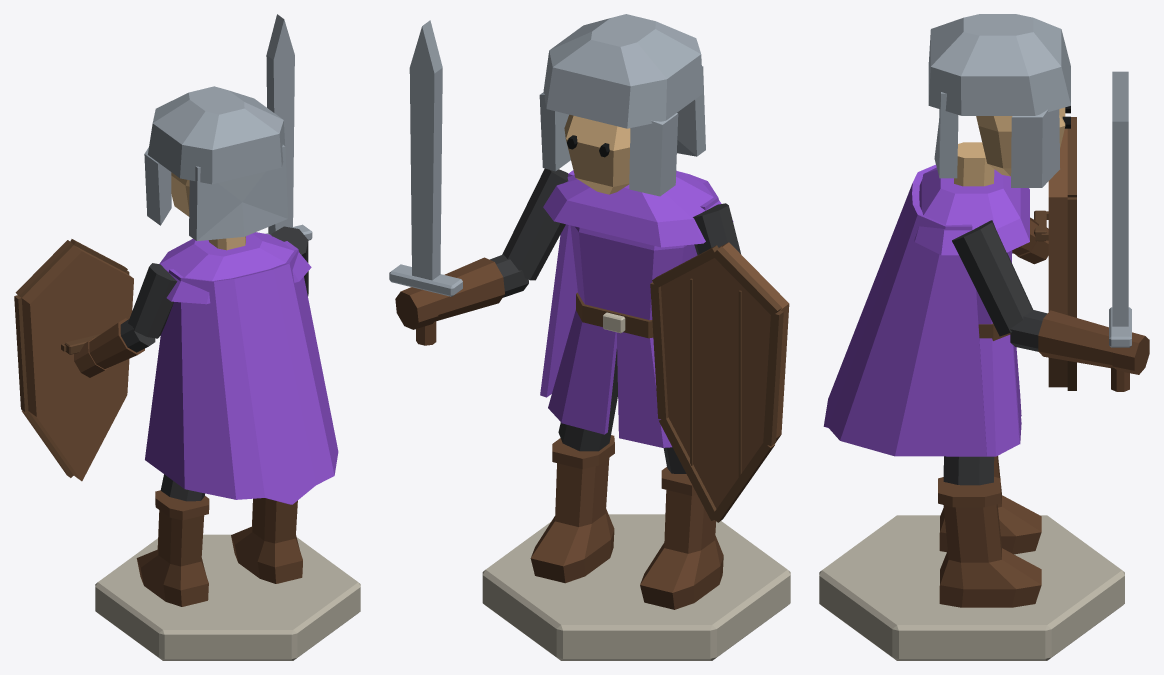
Rendered from human_soldier_t3.glb.
3 renders of one model, left to right at view 1: azimuth 30°, elevation 25°; view 2: azimuth 150°, elevation 25°; view 3: azimuth 270°, elevation 25°, orthographic. The views are drawn at different scales.
Parts seen in each view (by area): view 1: soldier_Wrapped_Back_Cape, Foundation_Hexagonal_Stone, wooden_shield, helmet, helmet_back, Continuous_Shoulder_Mantle, Boot_-1, Boot_1, sword_blade, left_upper_sleeve, helmet_cheek_-1, left_bracer (+8 smaller); view 2: Foundation_Hexagonal_Stone, wooden_shield, helmet, Continuous_Shoulder_Mantle, sword_blade, Boot_1, Continuous_Tunic_Bodice, Boot_-1, Split_Tunic_Front_1, Split_Tunic_Front_-1, Angular_Face, soldier_Wrapped_Back_Cape (+21 smaller); view 3: soldier_Wrapped_Back_Cape, Foundation_Hexagonal_Stone, helmet, Boot_1, Continuous_Shoulder_Mantle, right_upper_sleeve, sword_blade, Continuous_Split_Tunic_Skirt, wooden_shield, helmet_cheek_1, right_bracer, Boot_-1 (+11 smaller).
Part boxes in pixels (x1,y1,x2,y2): soldier_Wrapped_Back_Cape: (145,241,338,504); Foundation_Hexagonal_Stone: (95,534,360,660); wooden_shield: (21,245,133,481); helmet: (148,86,285,184); helmet_back: (189,145,287,240); Continuous_Shoulder_Mantle: (159,232,311,304); Boot_-1: (136,510,208,606); Boot_1: (231,498,302,583); sword_blade: (266,14,294,234); left_upper_sleeve: (128,263,177,338); helmet_cheek_-1: (144,147,171,225); left_bracer: (89,318,144,368); Foundation_Hexagonal_Stone: (482,514,790,660); wooden_shield: (661,242,789,508); helmet: (543,14,703,128); Continuous_Shoulder_Mantle: (543,170,733,247); sword_blade: (409,20,442,280); Boot_1: (530,458,614,583); Continuous_Tunic_Bodice: (570,225,697,320); Boot_-1: (640,490,723,609); Split_Tunic_Front_1: (561,322,616,434); Split_Tunic_Front_-1: (616,332,663,447); Angular_Face: (564,114,630,194); soldier_Wrapped_Back_Cape: (540,170,718,397); soldier_Wrapped_Back_Cape: (823,164,986,456); Foundation_Hexagonal_Stone: (819,515,1124,660); helmet: (928,14,1070,115); Boot_1: (939,504,1041,607); Continuous_Shoulder_Mantle: (914,167,1029,255); right_upper_sleeve: (952,220,1032,336); sword_blade: (1112,71,1128,326); Continuous_Split_Tunic_Skirt: (946,335,1019,456); wooden_shield: (1048,128,1067,387); helmet_cheek_1: (1011,109,1059,187); right_bracer: (1038,310,1113,368); Boot_-1: (939,456,1041,554).
Bounding box in the file's own units: 1.26 × 2.01 × 1.
